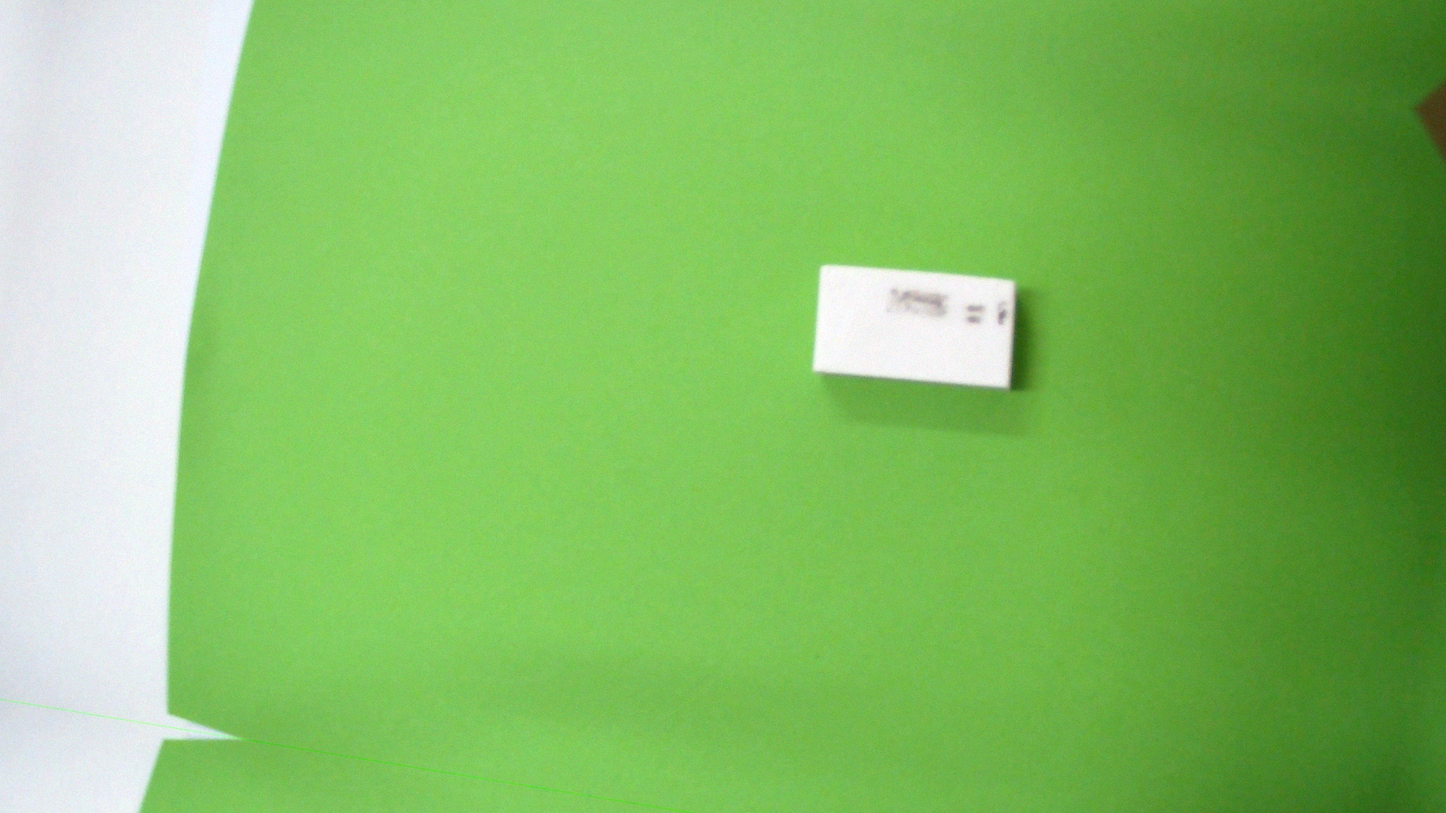gom: (801, 236, 1032, 414)
